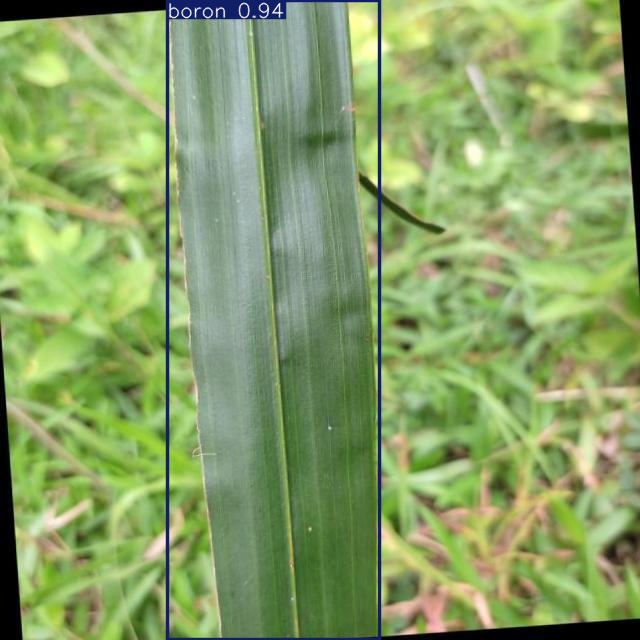nitrogen: (168, 1, 379, 639)
